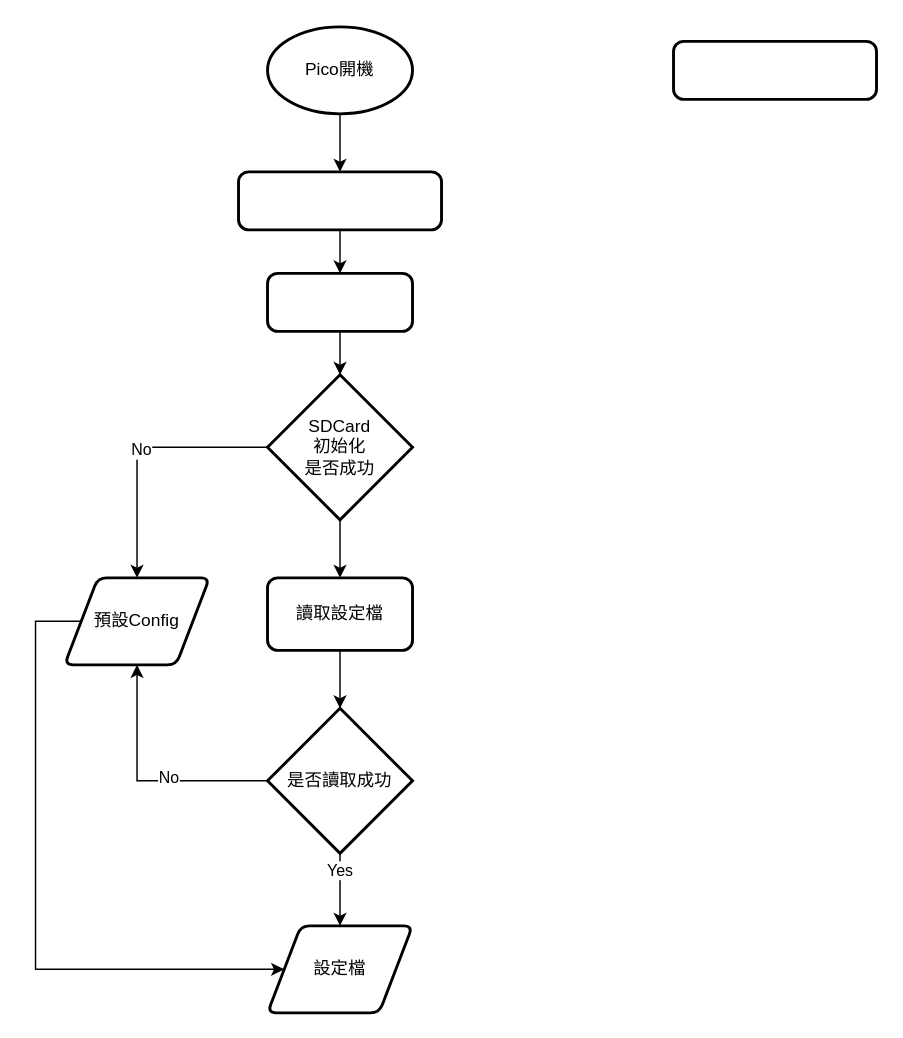
The diagram is 903 pixels wide and 1038 high, and some of its shapes have lost their labels. The centre of each missing label's shape, as x and y in pixels:
初始化SDCard: [339,301]
設定LTEIoT6 Click: [774,69]
設定WaterBox: [339,200]
